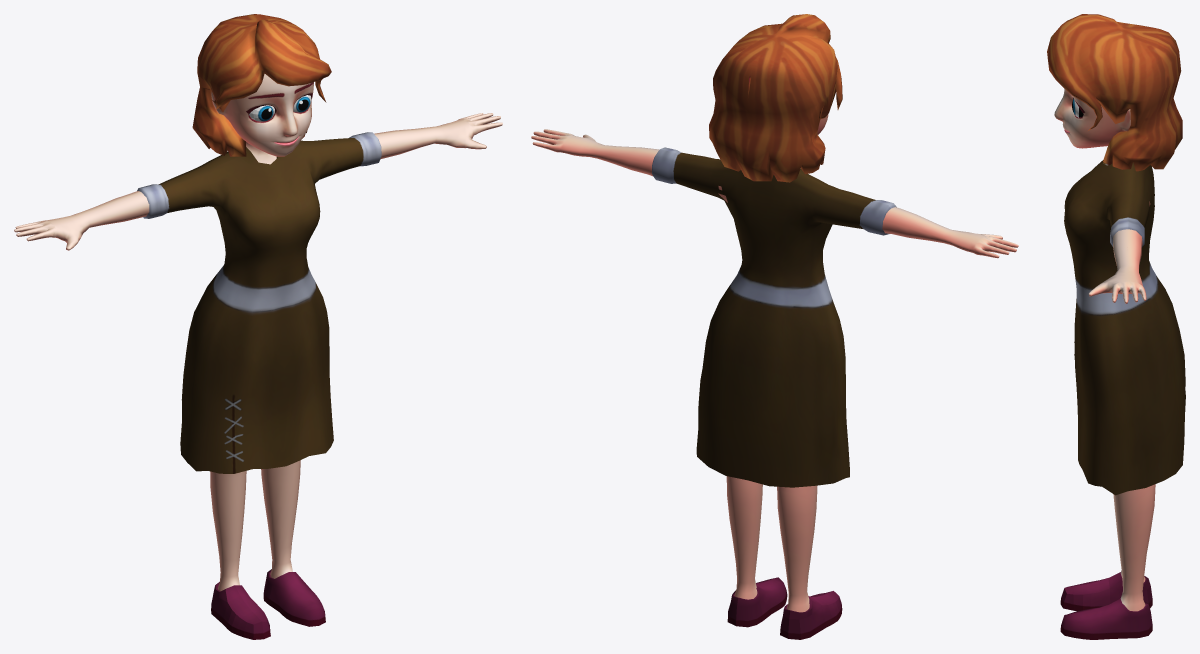
File: Donnie_Base.fbx
3 views of the same model, side by side, from view 1: azimuth 30°, elevation 25°; view 2: azimuth 150°, elevation 25°; view 3: azimuth 270°, elevation 25° (orthographic).
Visible parts, largest first — view 1: Donnie_Base_outfit, Donnie_Base_body; view 2: Donnie_Base_outfit, Donnie_Base_body; view 3: Donnie_Base_outfit, Donnie_Base_body.
Boxes of the visible parts, left/top/right/bottom form: Donnie_Base_outfit: left=137, top=14, right=381, bottom=639; Donnie_Base_body: left=14, top=74, right=502, bottom=590; Donnie_Base_outfit: left=652, top=14, right=896, bottom=639; Donnie_Base_body: left=531, top=114, right=1018, bottom=612; Donnie_Base_outfit: left=1047, top=14, right=1185, bottom=639; Donnie_Base_body: left=1054, top=89, right=1155, bottom=611.
Size of the model in its own units: 1.18 by 1.39 by 0.2926.
